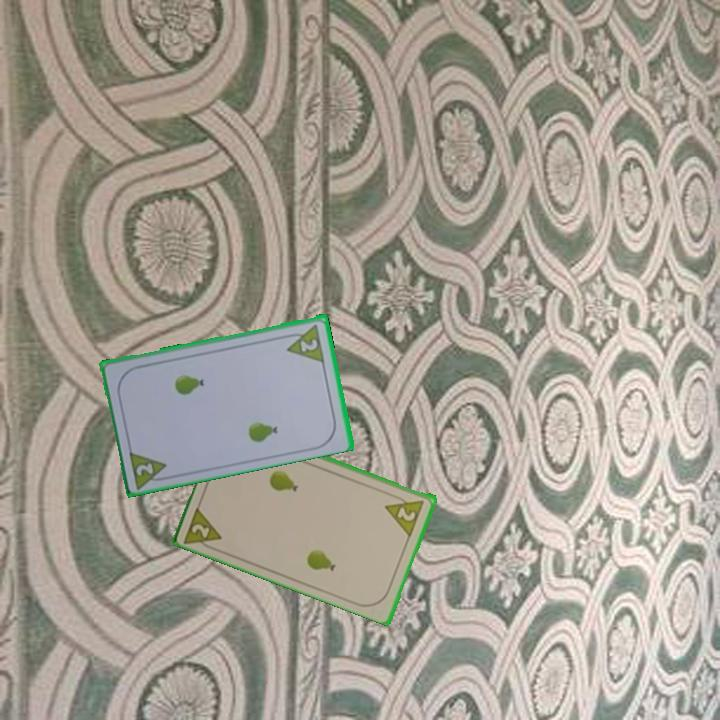2p: (181, 501, 226, 554), (382, 489, 427, 538), (125, 446, 173, 490), (297, 335, 321, 355)
